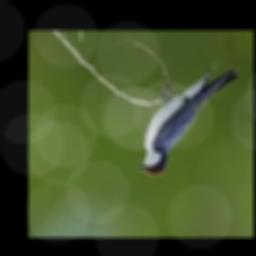Swallow: (136, 66, 240, 175)
